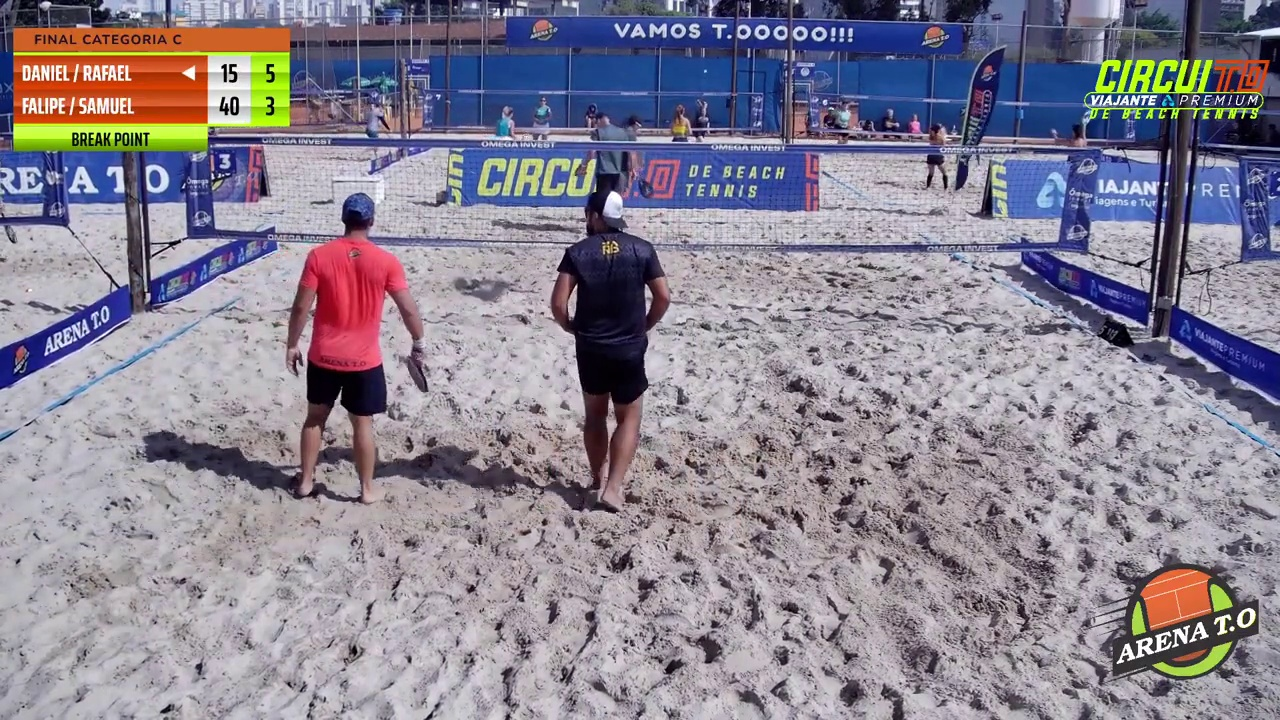court_line: (394, 0, 574, 505), (637, 0, 805, 511)
